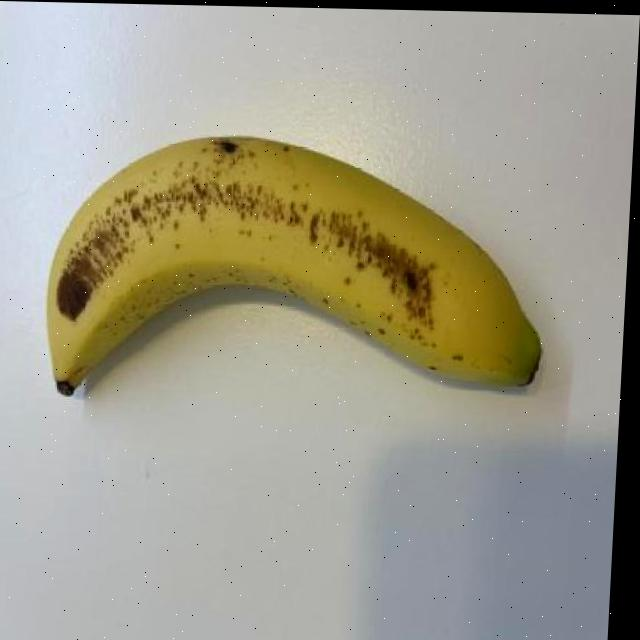banana: (38, 134, 558, 415)
